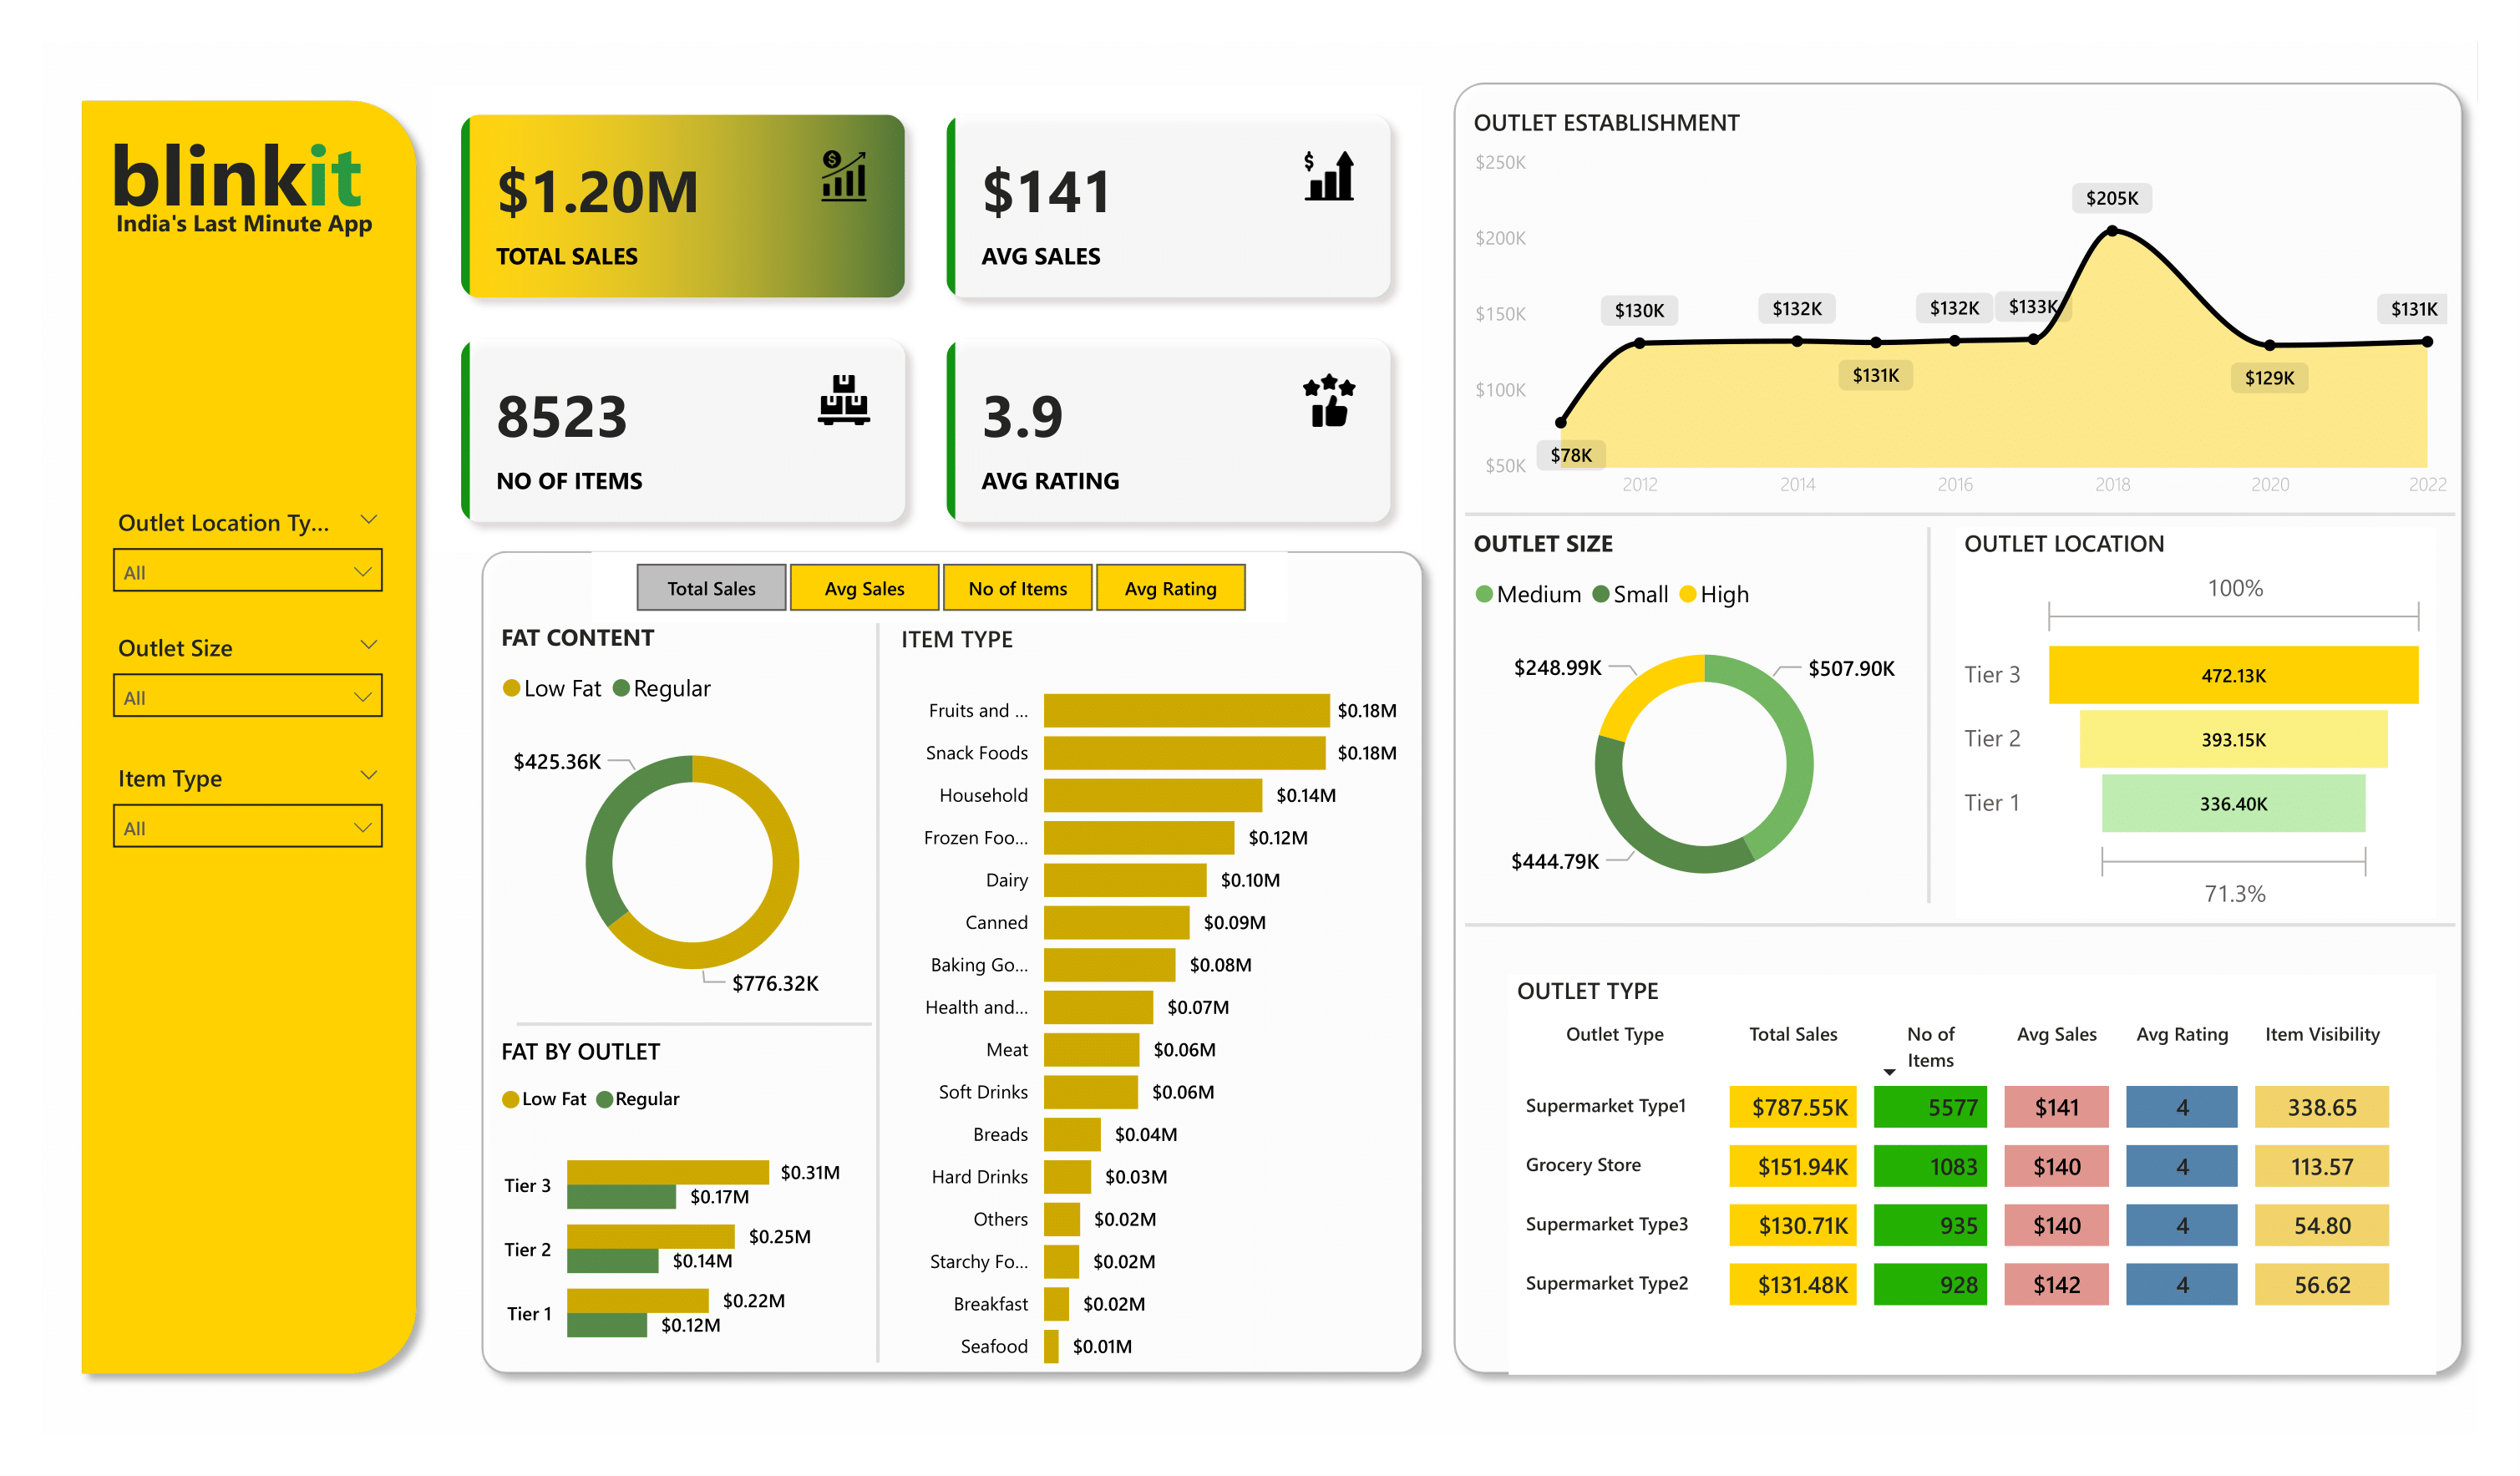

This screenshot's page, from the dashboard's own definition file:
{"tool":"powerbi","page":{"name":"Page 1","canvas":[1400,800],"ordinal":0},"visuals":[{"type":"shape","box":[13.6,24.5,210,749.8],"z":0},{"type":"textbox","box":[34.1,36.8,200.4,83.2],"z":1000},{"type":"textbox","box":[34.1,90,210,30],"z":2000},{"type":"cardVisual","fields":{"Data":["BlinkIT Grocery Data.Total Sales","BlinkIT Grocery Data.Avg Sales","BlinkIT Grocery Data.No of Items","BlinkIT Grocery Data.Avg Rating"]},"box":[223.6,24.5,569.9,269.9],"z":3000},{"type":"shape","box":[244,283.6,559,490.8],"z":4000},{"type":"donutChart","title":"FAT CONTENT","fields":{"Y":["BlinkIT Grocery Data.Total Sales"],"Category":["BlinkIT Grocery Data.Item Fat Content"]},"box":[259,332.7,230.4,230.4],"z":5000},{"type":"clusteredBarChart","title":"FAT BY OUTLET","fields":{"Y":["BlinkIT Grocery Data.Total Sales"],"Category":["BlinkIT Grocery Data.Outlet Location Type"],"Series":["BlinkIT Grocery Data.Item Fat Content"]},"box":[259,571.2,204.5,195],"z":6000},{"type":"shape","box":[444.4,334,72.3,425.4],"z":7000},{"type":"shape","box":[272.7,535.8,204.5,57.3],"z":8000},{"type":"slicer","fields":{"Values":["Metrics.Metrics"]},"box":[316.3,293.1,399.5,40.9],"z":9000},{"type":"barChart","title":"ITEM TYPE","fields":{"Y":["BlinkIT Grocery Data.Total Sales"],"Category":["BlinkIT Grocery Data.Item Type"]},"box":[489.4,334,294.5,440.4],"z":10000},{"type":"shape","box":[803,15,597.1,759.4],"z":11000},{"type":"lineChart","title":"OUTLET ESTABLISHMENT","fields":{"Category":["BlinkIT Grocery Data.Outlet Establishment Year"],"Y":["BlinkIT Grocery Data.Total Sales"]},"box":[818,36.8,568.5,234.5],"z":12000},{"type":"shape","box":[818,242.7,568.5,57.3],"z":13000},{"type":"donutChart","title":"OUTLET SIZE","fields":{"Y":["BlinkIT Grocery Data.Total Sales"],"Category":["BlinkIT Grocery Data.Outlet Size"]},"box":[818,279.5,275,225],"z":14000},{"type":"shape","box":[1066.1,279.5,36.8,215.4],"z":15000},{"type":"funnel","title":"OUTLET LOCATION","fields":{"Y":["Sum(BlinkIT Grocery Data.Sales)"],"Category":["BlinkIT Grocery Data.Outlet Location Type"]},"box":[1100.2,279.5,275.4,225],"z":16000},{"type":"shape","box":[818,478.5,568.5,57.3],"z":17000},{"type":"pivotTable","title":"OUTLET TYPE","fields":{"Rows":["BlinkIT Grocery Data.Outlet Type"],"Values":["BlinkIT Grocery Data.Total Sales","BlinkIT Grocery Data.No of Items","BlinkIT Grocery Data.Avg Sales","BlinkIT Grocery Data.Avg Rating","Sum(BlinkIT Grocery Data.Item Visibility)"]},"box":[835.7,529,533.1,230.4],"z":18000},{"type":"slicer","fields":{"Values":["BlinkIT Grocery Data.Outlet Location Type"]},"box":[31.4,261.8,174.5,75],"z":19000},{"type":"slicer","fields":{"Values":["BlinkIT Grocery Data.Outlet Size"]},"box":[31.4,334,174.5,75],"z":20000},{"type":"slicer","fields":{"Values":["BlinkIT Grocery Data.Item Type"]},"box":[31.4,409,174.5,75],"z":21000}]}

Visuals, with their boxes on the page's 1400x800 design canvas (x1, y1, x2, y2). These are canvas units, not pixel positions in the 2520x1476 screenshot, which may show the page scaled, cropped or inside an application window:
shape: [14, 24, 224, 774]
textbox: [34, 37, 234, 120]
textbox: [34, 90, 244, 120]
cardVisual - BlinkIT Grocery Data.Total Sales x BlinkIT Grocery Data.Avg Sales: [224, 24, 794, 294]
shape: [244, 284, 803, 774]
"FAT CONTENT" donutChart: [259, 333, 489, 563]
"FAT BY OUTLET" clusteredBarChart: [259, 571, 464, 766]
shape: [444, 334, 517, 759]
shape: [273, 536, 477, 593]
slicer - Metrics.Metrics: [316, 293, 716, 334]
"ITEM TYPE" barChart: [489, 334, 784, 774]
shape: [803, 15, 1400, 774]
"OUTLET ESTABLISHMENT" lineChart: [818, 37, 1386, 271]
shape: [818, 243, 1386, 300]
"OUTLET SIZE" donutChart: [818, 280, 1093, 504]
shape: [1066, 280, 1103, 495]
"OUTLET LOCATION" funnel: [1100, 280, 1376, 504]
shape: [818, 478, 1386, 536]
"OUTLET TYPE" pivotTable: [836, 529, 1369, 759]
slicer - BlinkIT Grocery Data.Outlet Location Type: [31, 262, 206, 337]
slicer - BlinkIT Grocery Data.Outlet Size: [31, 334, 206, 409]
slicer - BlinkIT Grocery Data.Item Type: [31, 409, 206, 484]
